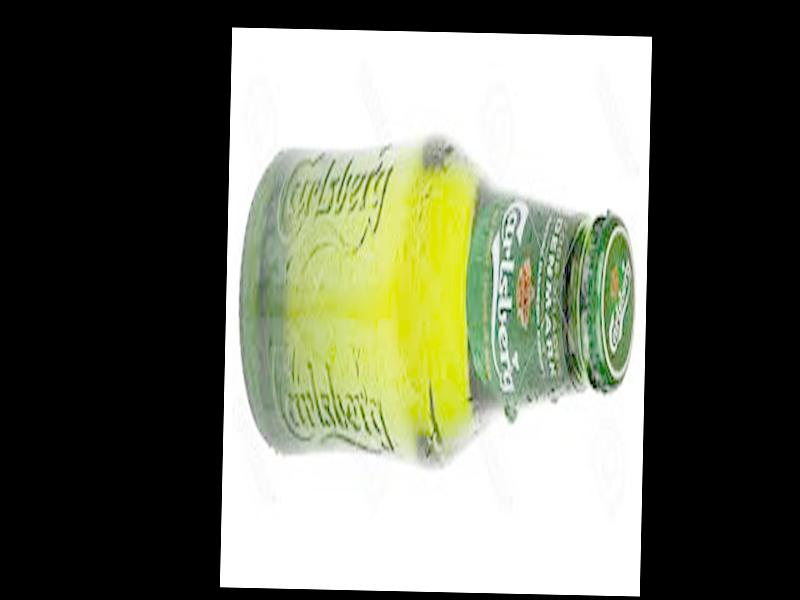Beer: (233, 129, 639, 470)
